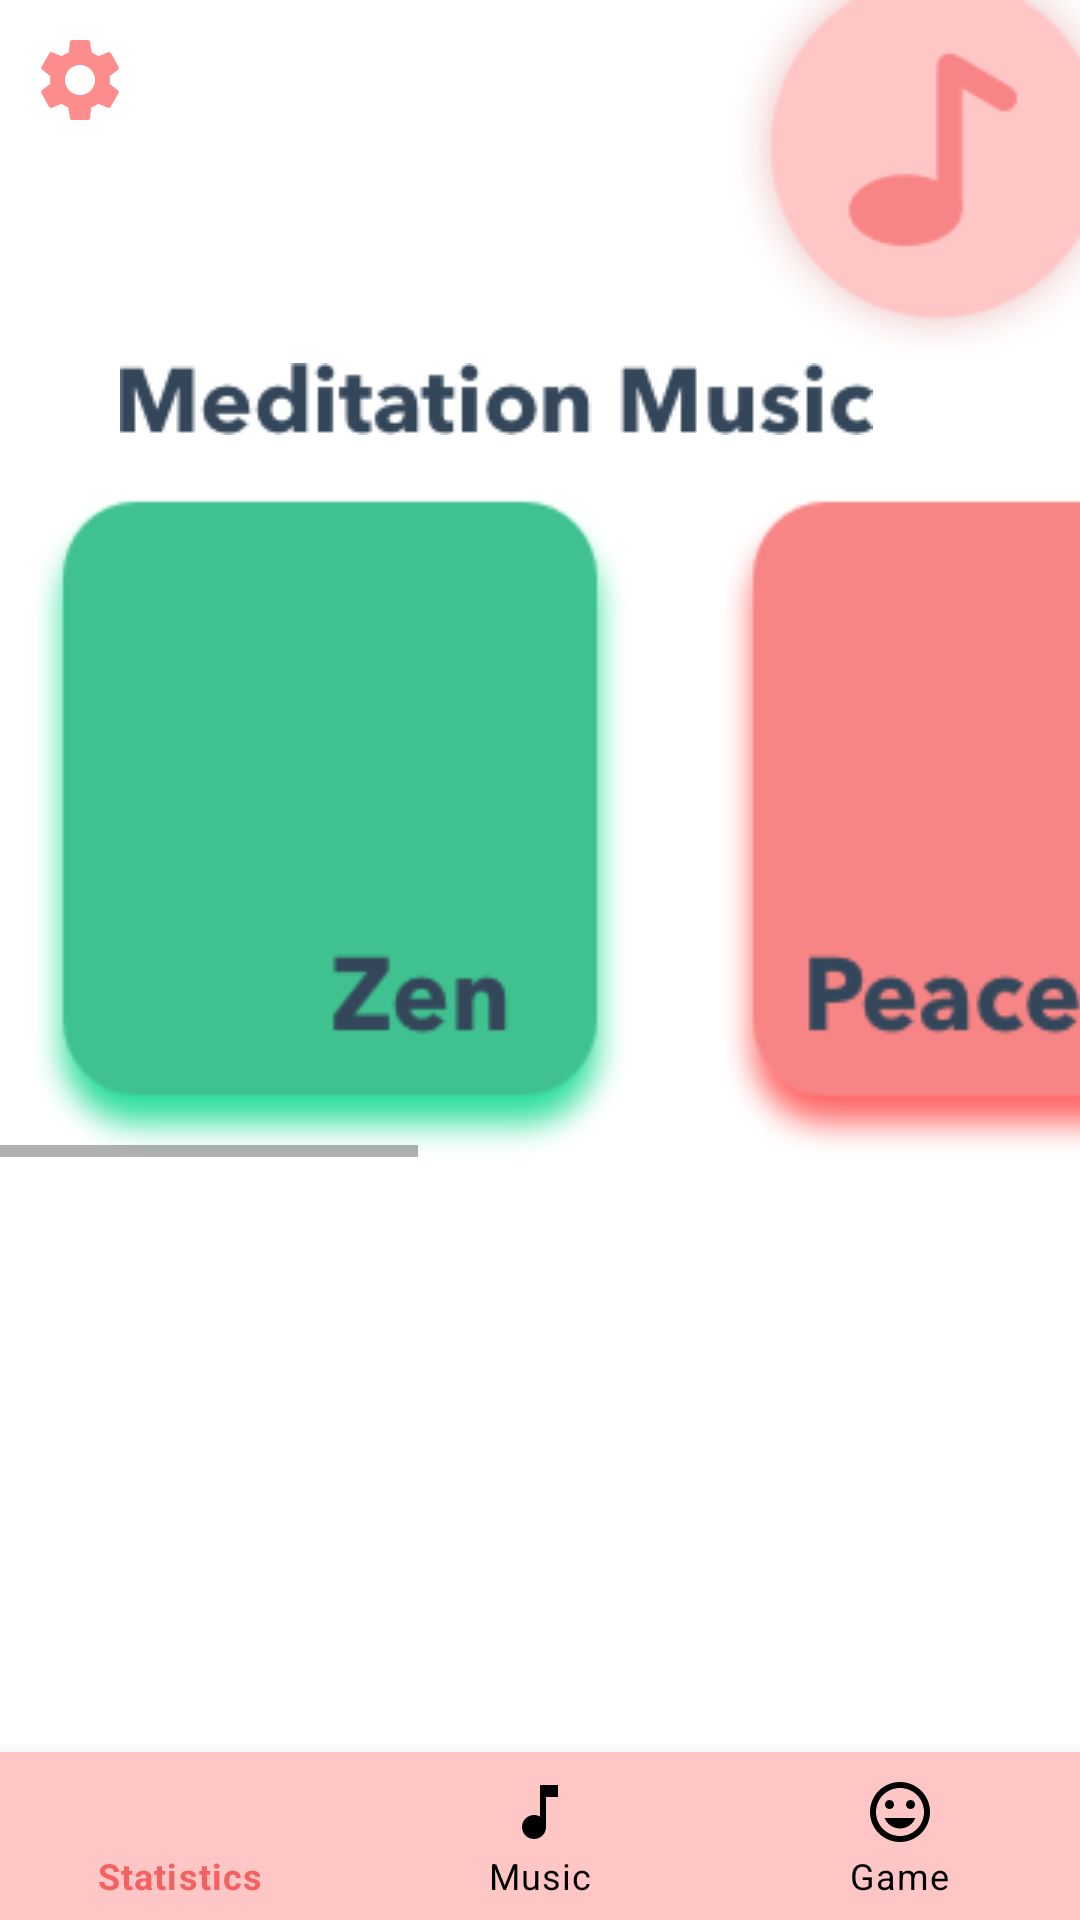

Screen size 1080 x 1920. Icon name, then its center in pixels as point (x, y):
settings other: point (80, 80)
